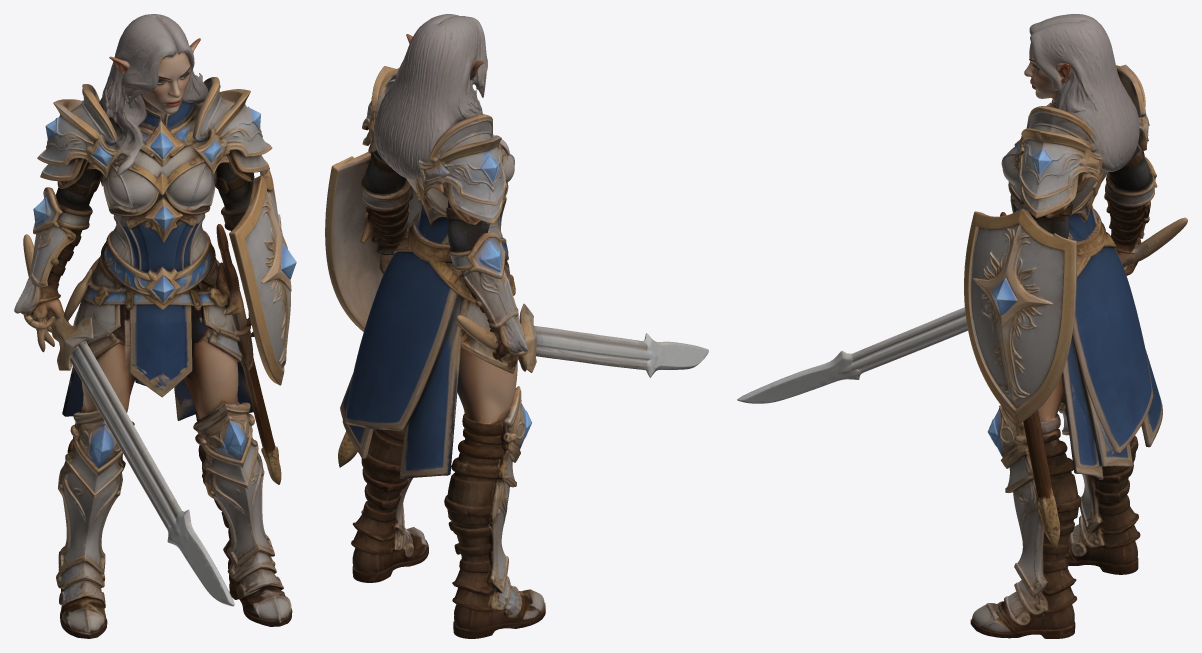
File: elf_warrior_full_female_01.glb
3 renders of one model, left to right at view 1: azimuth 30°, elevation 25°; view 2: azimuth 150°, elevation 25°; view 3: azimuth 270°, elevation 25°, orthographic. The views are drawn at different scales.
Visible parts, largest first — view 1: material; view 2: material; view 3: material.
Boxes of the visible parts, x1,y1,x2,y2 form: material: (14,14,296,638); material: (325,14,708,638); material: (737,14,1187,638).
Size of the model in its own units: 0.4346 by 1.05 by 0.7438.
Materials: 1 (1 with a texture image).
